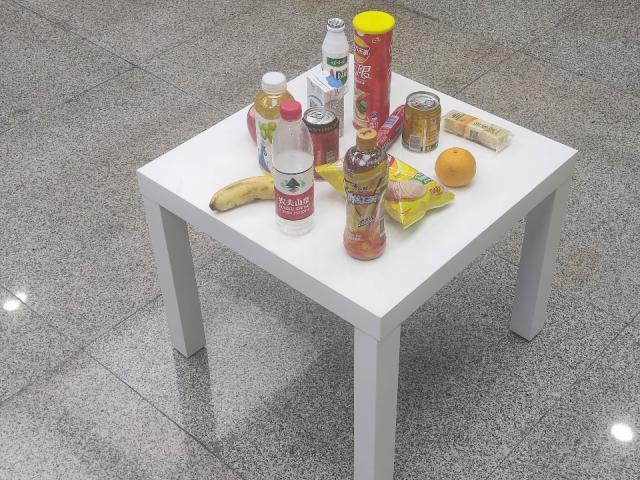Canned_drinks: (301, 108, 341, 179), (404, 91, 438, 154)
bottle: (266, 97, 320, 243)
cylinder: (348, 9, 398, 137)
drink_box: (304, 68, 347, 138)
